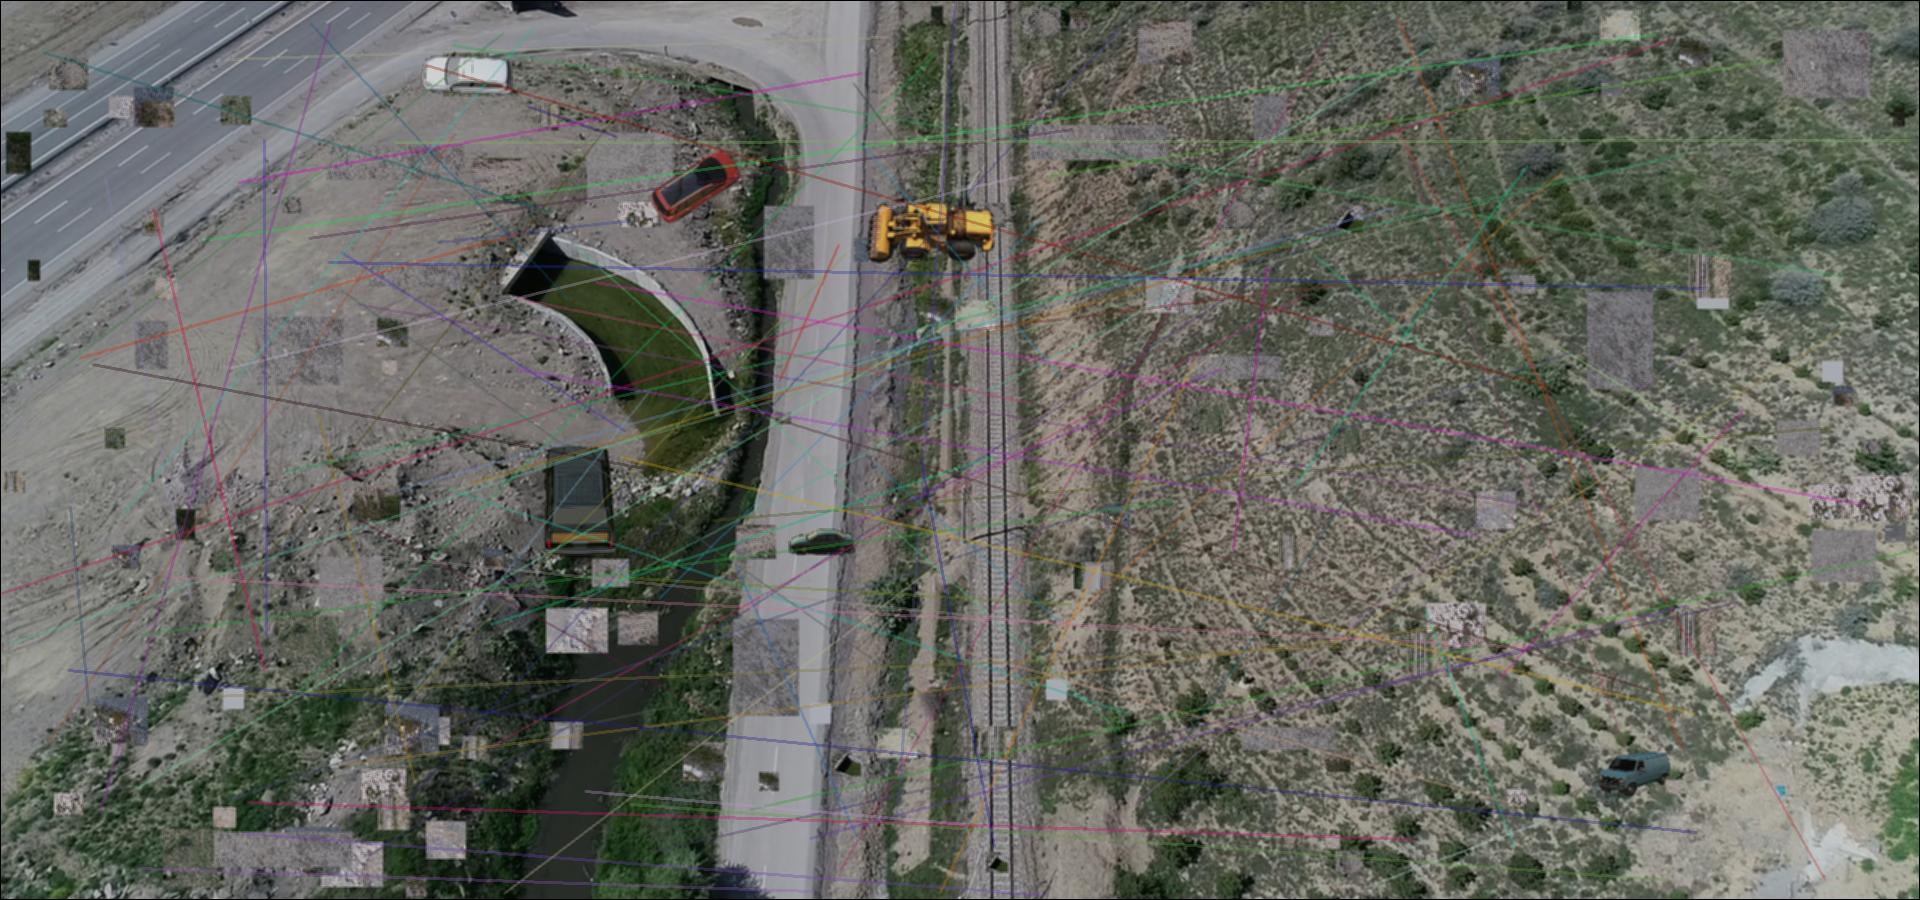arac: (863, 197, 1000, 271), (538, 446, 618, 558), (651, 149, 742, 224), (421, 51, 514, 103), (1597, 749, 1670, 797), (789, 528, 857, 555)
